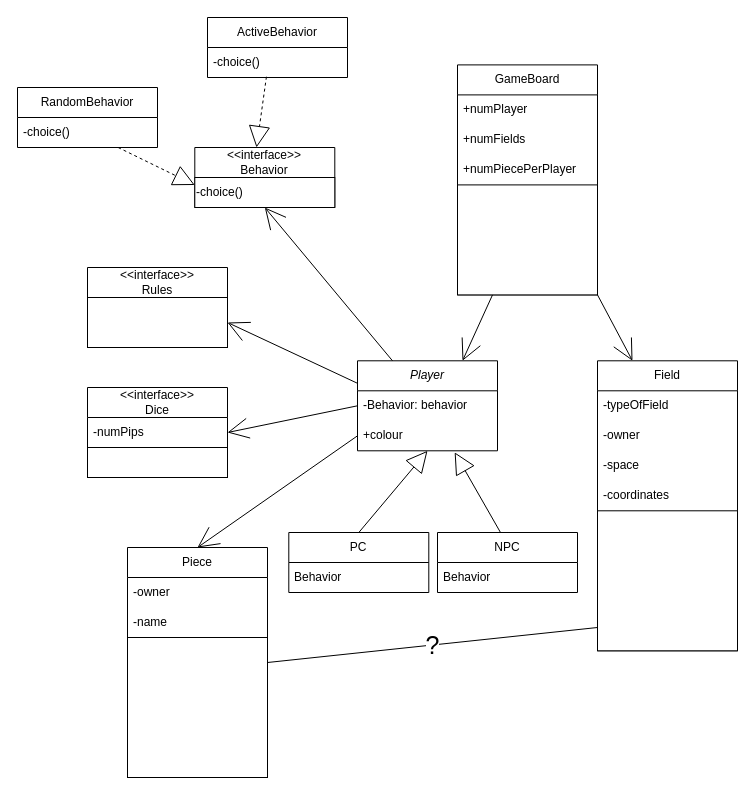
Image size: 755x795. Some labels were removed from this diagram. The shapes that lost their labels are listed below. From the top down, each one's centre as x and y in pixels, then its label:
(527,239): -drawMap() -gameStart() -nextTurn() -gameFinish()
(157,322): -checkWin() -validMove()
(157,462): -throwDice()
(667,580): +nextField() +getOwner() +getTypeOfField +getPiece() +setPiece()
(197,707): +move() +destroy() +moveFromHome() +getField() +setField()
